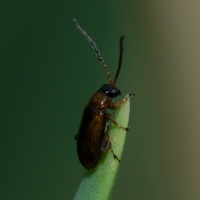insect: (73, 18, 128, 168)
